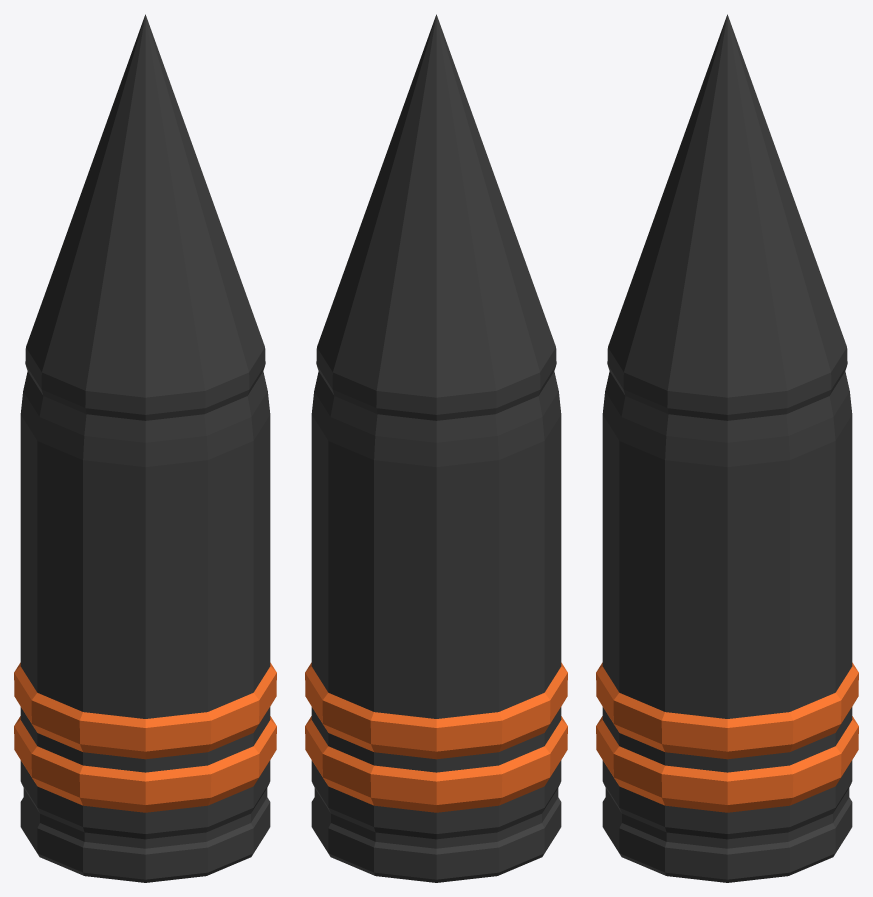
The model's file is PzGr40_75_L48.glb.
3 renders of one model, left to right at view 1: azimuth 30°, elevation 25°; view 2: azimuth 150°, elevation 25°; view 3: azimuth 270°, elevation 25°, orthographic.
Visible parts, largest first — view 1: PzGr40_75_L48; view 2: PzGr40_75_L48; view 3: PzGr40_75_L48.
Boxes of the visible parts, <box> form: PzGr40_75_L48: <box>14,14,276,882</box>; PzGr40_75_L48: <box>305,14,567,882</box>; PzGr40_75_L48: <box>596,14,858,882</box>.
Size of the model in its own units: 0.0744 by 0.256 by 0.0744.
